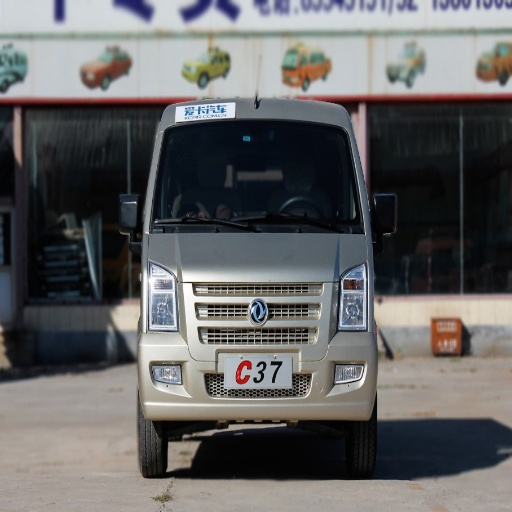front_bumper: (140, 282, 377, 420)
front_right_light: (139, 259, 180, 330)
hood: (149, 233, 366, 286)
trunk: (79, 29, 158, 62)
